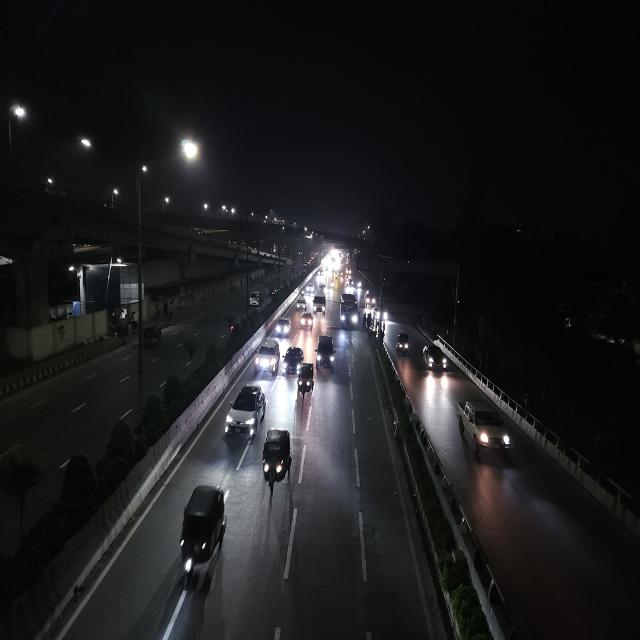bus: (338, 290, 358, 330)
car: (454, 398, 514, 460), (221, 381, 267, 442), (253, 340, 281, 378), (420, 342, 449, 377), (314, 333, 338, 373), (283, 344, 305, 376), (273, 316, 293, 338), (298, 310, 314, 331), (312, 294, 326, 316), (247, 290, 263, 307), (294, 295, 308, 313), (364, 291, 376, 309)
cng: (175, 479, 229, 598), (258, 426, 295, 499), (140, 321, 165, 352), (296, 362, 316, 399), (395, 332, 411, 354)
pedestrian: (376, 323, 384, 345), (365, 314, 373, 331)
